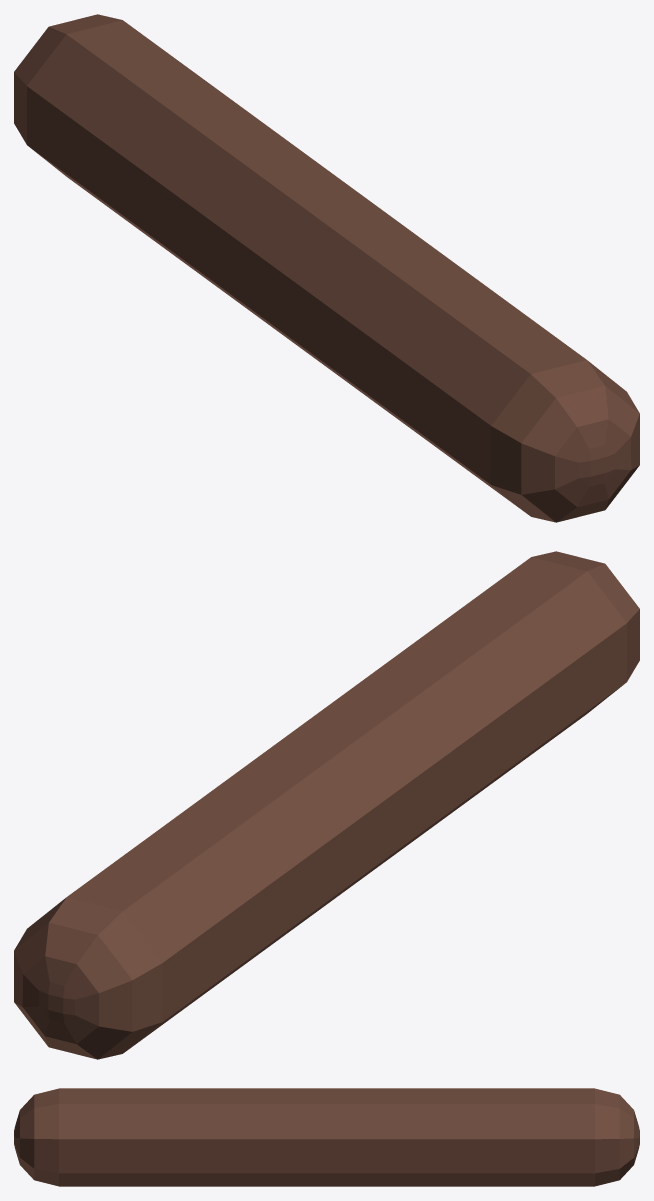
Rendered from Sausage_Cooked.glb.
3 renders of one model, top to bottom at view 1: azimuth 30°, elevation 25°; view 2: azimuth 150°, elevation 25°; view 3: azimuth 270°, elevation 25°, orthographic. The views are drawn at different scales.
Visible parts, largest first — view 1: Sausage_Cooked; view 2: Sausage_Cooked; view 3: Sausage_Cooked.
Boxes of the visible parts, left/top/right/bottom form: Sausage_Cooked: left=14, top=14, right=639, bottom=522; Sausage_Cooked: left=14, top=551, right=639, bottom=1059; Sausage_Cooked: left=14, top=1088, right=639, bottom=1186.
Size of the model in its own units: 0.2396 by 0.2413 by 1.66.
